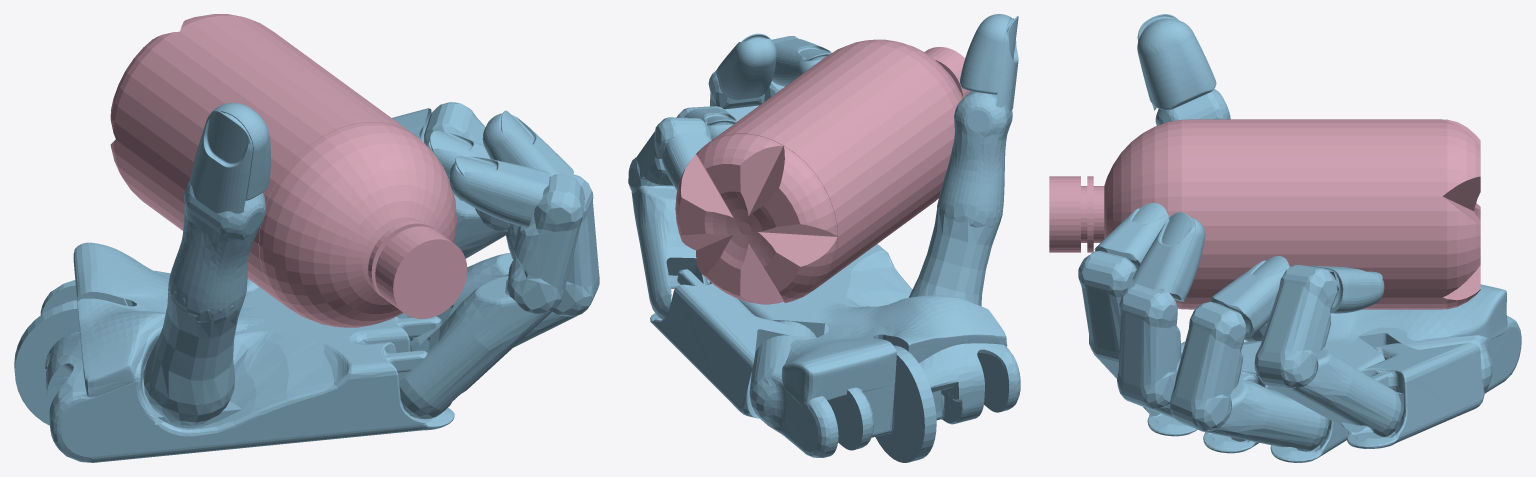
3 views of the same model, side by side, from view 1: azimuth 30°, elevation 25°; view 2: azimuth 150°, elevation 25°; view 3: azimuth 270°, elevation 25° (orthographic). The views are drawn at different scales.
Visible parts, largest first — view 1: world; view 2: world; view 3: world.
Boxes of the visible parts, x1=… form: world: x1=14, y1=14, x2=599, y2=462; world: x1=628, y1=14, x2=1020, y2=462; world: x1=1049, y1=14, x2=1521, y2=462.
Bounding box in the file's own units: 0.1539 × 0.1297 × 0.1496.
